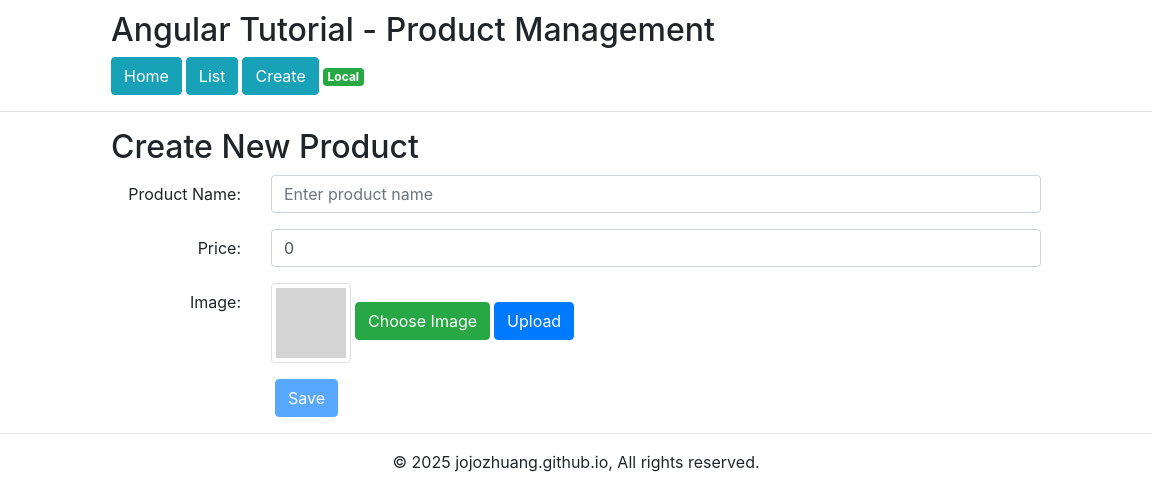
Test case: Product Add › should navigate to home page
Click the button to "/". click: x=147, y=76
box: [111, 57, 182, 95]
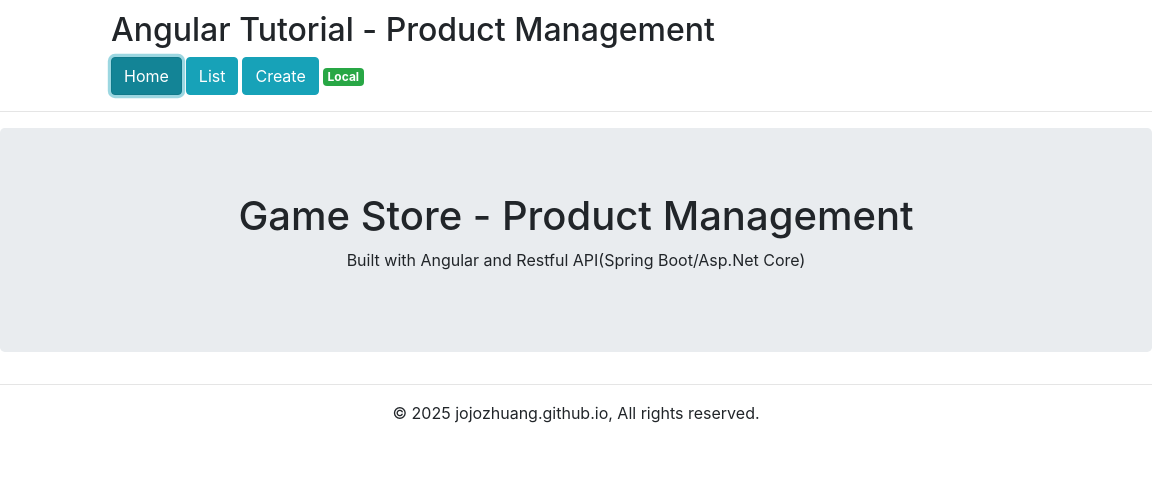
expect the heading "Game Store - Product Management" is shown: met, box [238, 191, 914, 240]
